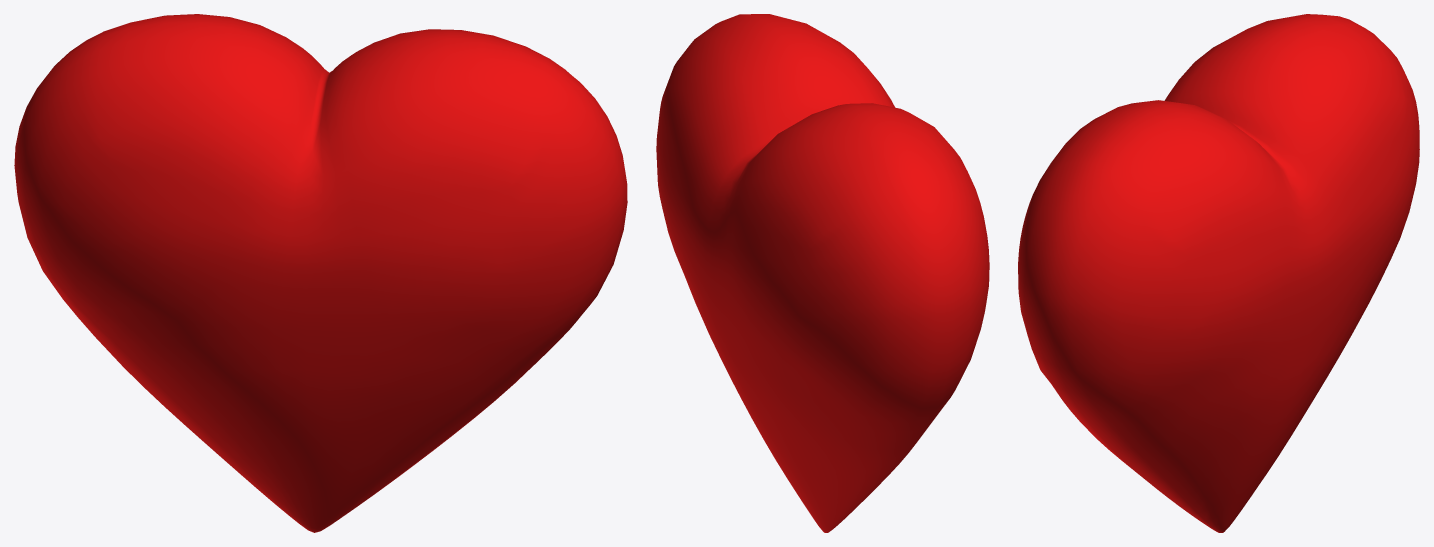
The model's file is coeur.fbx.
3 views of the same model, side by side, from view 1: azimuth 30°, elevation 25°; view 2: azimuth 150°, elevation 25°; view 3: azimuth 270°, elevation 25° (orthographic). The views are drawn at different scales.
Parts seen in each view (by area): view 1: node_id48; view 2: node_id48; view 3: node_id48.
Boxes of the visible parts, x1,y1,x2,y2 form: node_id48: (14, 14, 627, 532); node_id48: (656, 14, 989, 532); node_id48: (1018, 14, 1419, 532).
Size of the model in its own units: 0.3713 by 0.3904 by 0.3052.
1 material, 1 textured.
